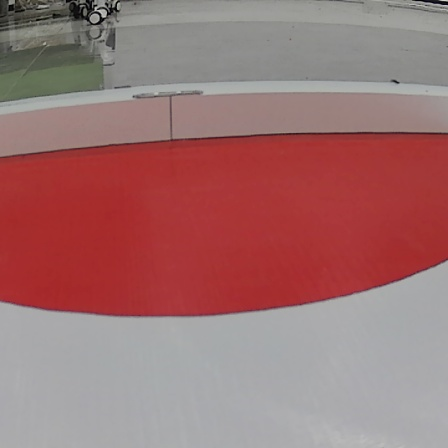red_base: (3, 125, 447, 319)
